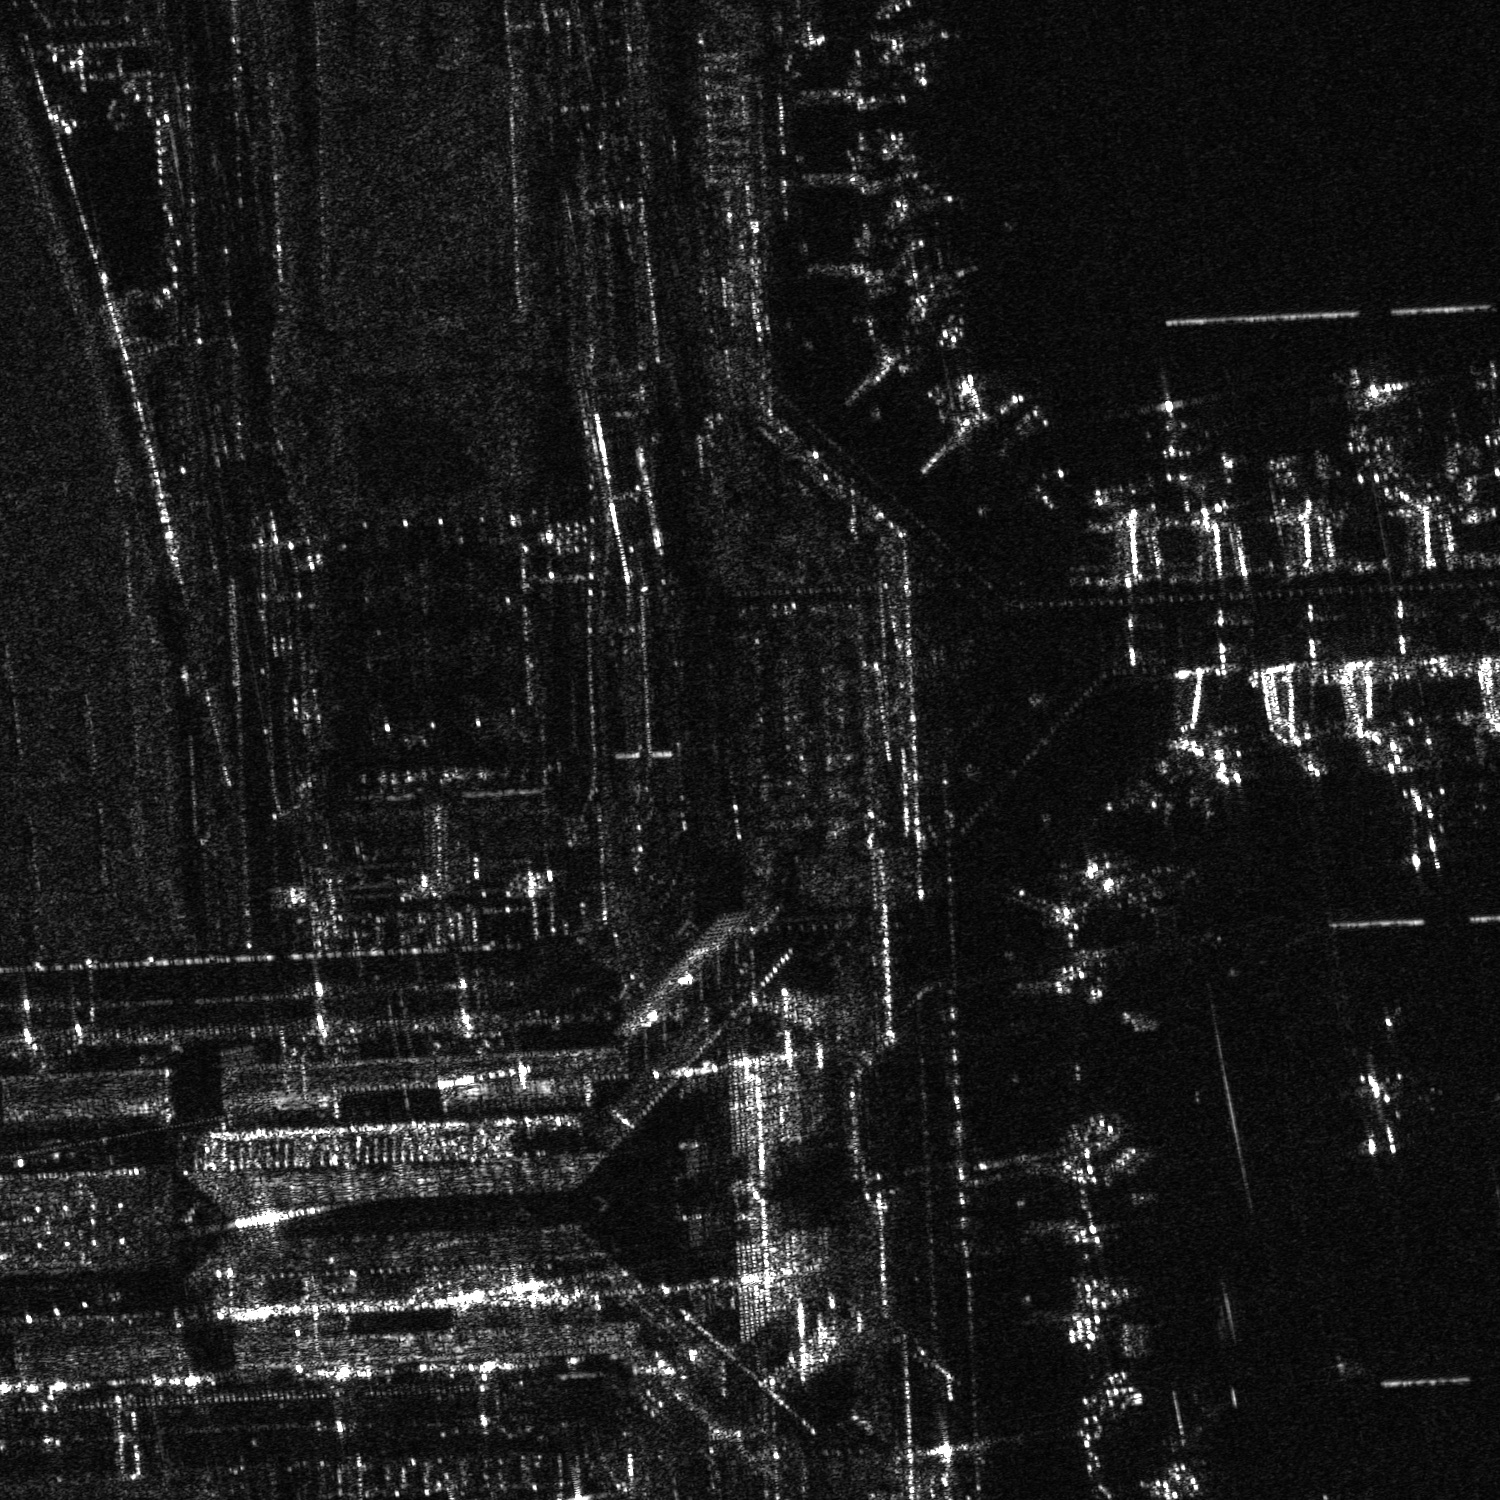A220: (857, 161, 964, 240), (1136, 386, 1201, 438)
A320/321: (1338, 364, 1415, 423)
Boeing787: (1378, 775, 1459, 874)
other: (1341, 1071, 1413, 1158)
